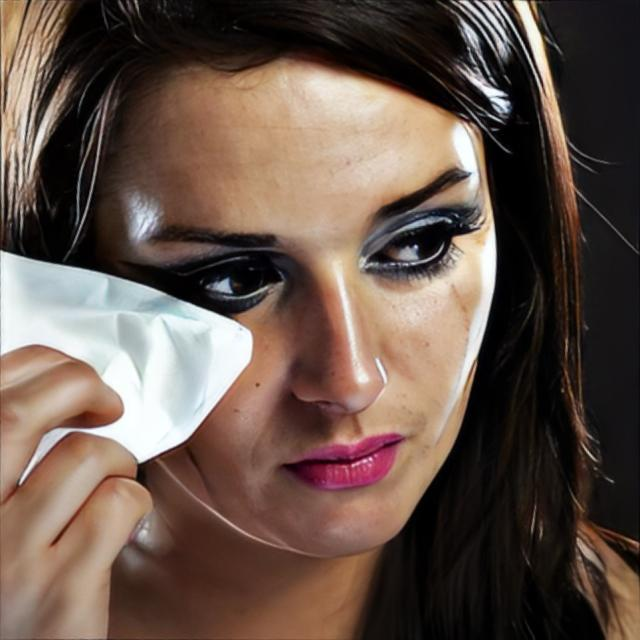sad: (120, 70, 501, 559)
